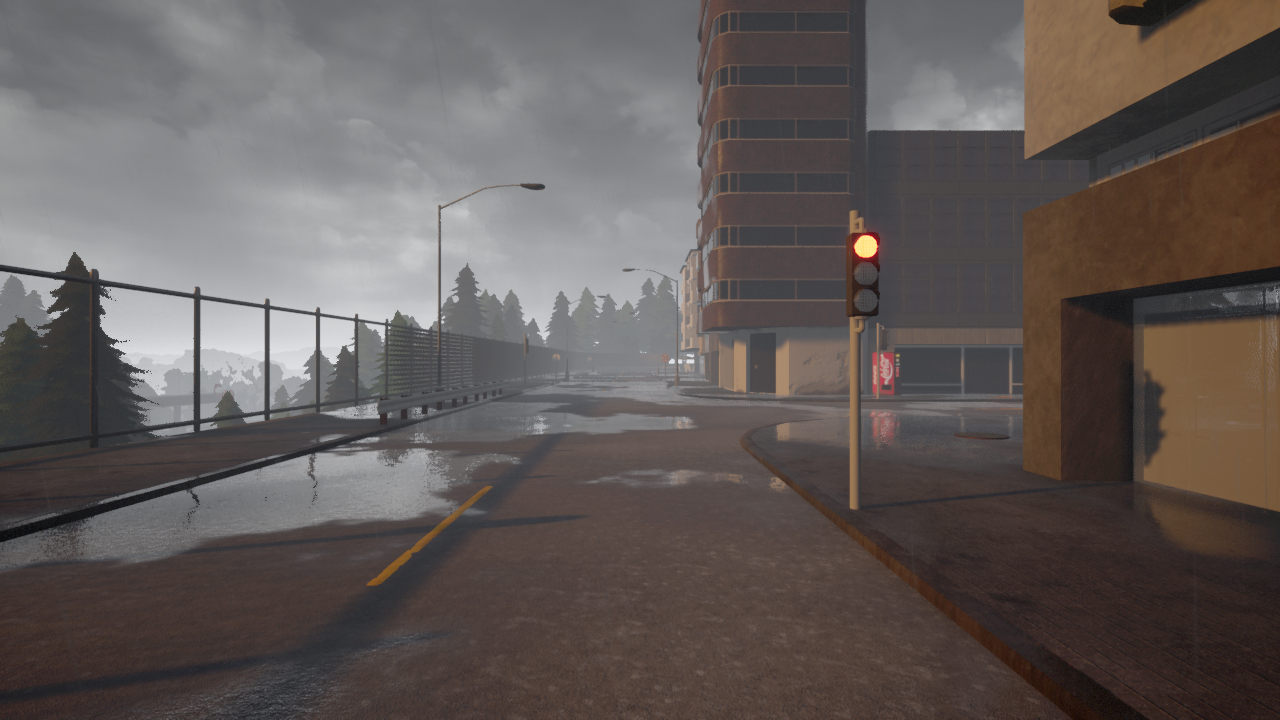red: (841, 227, 881, 320)
